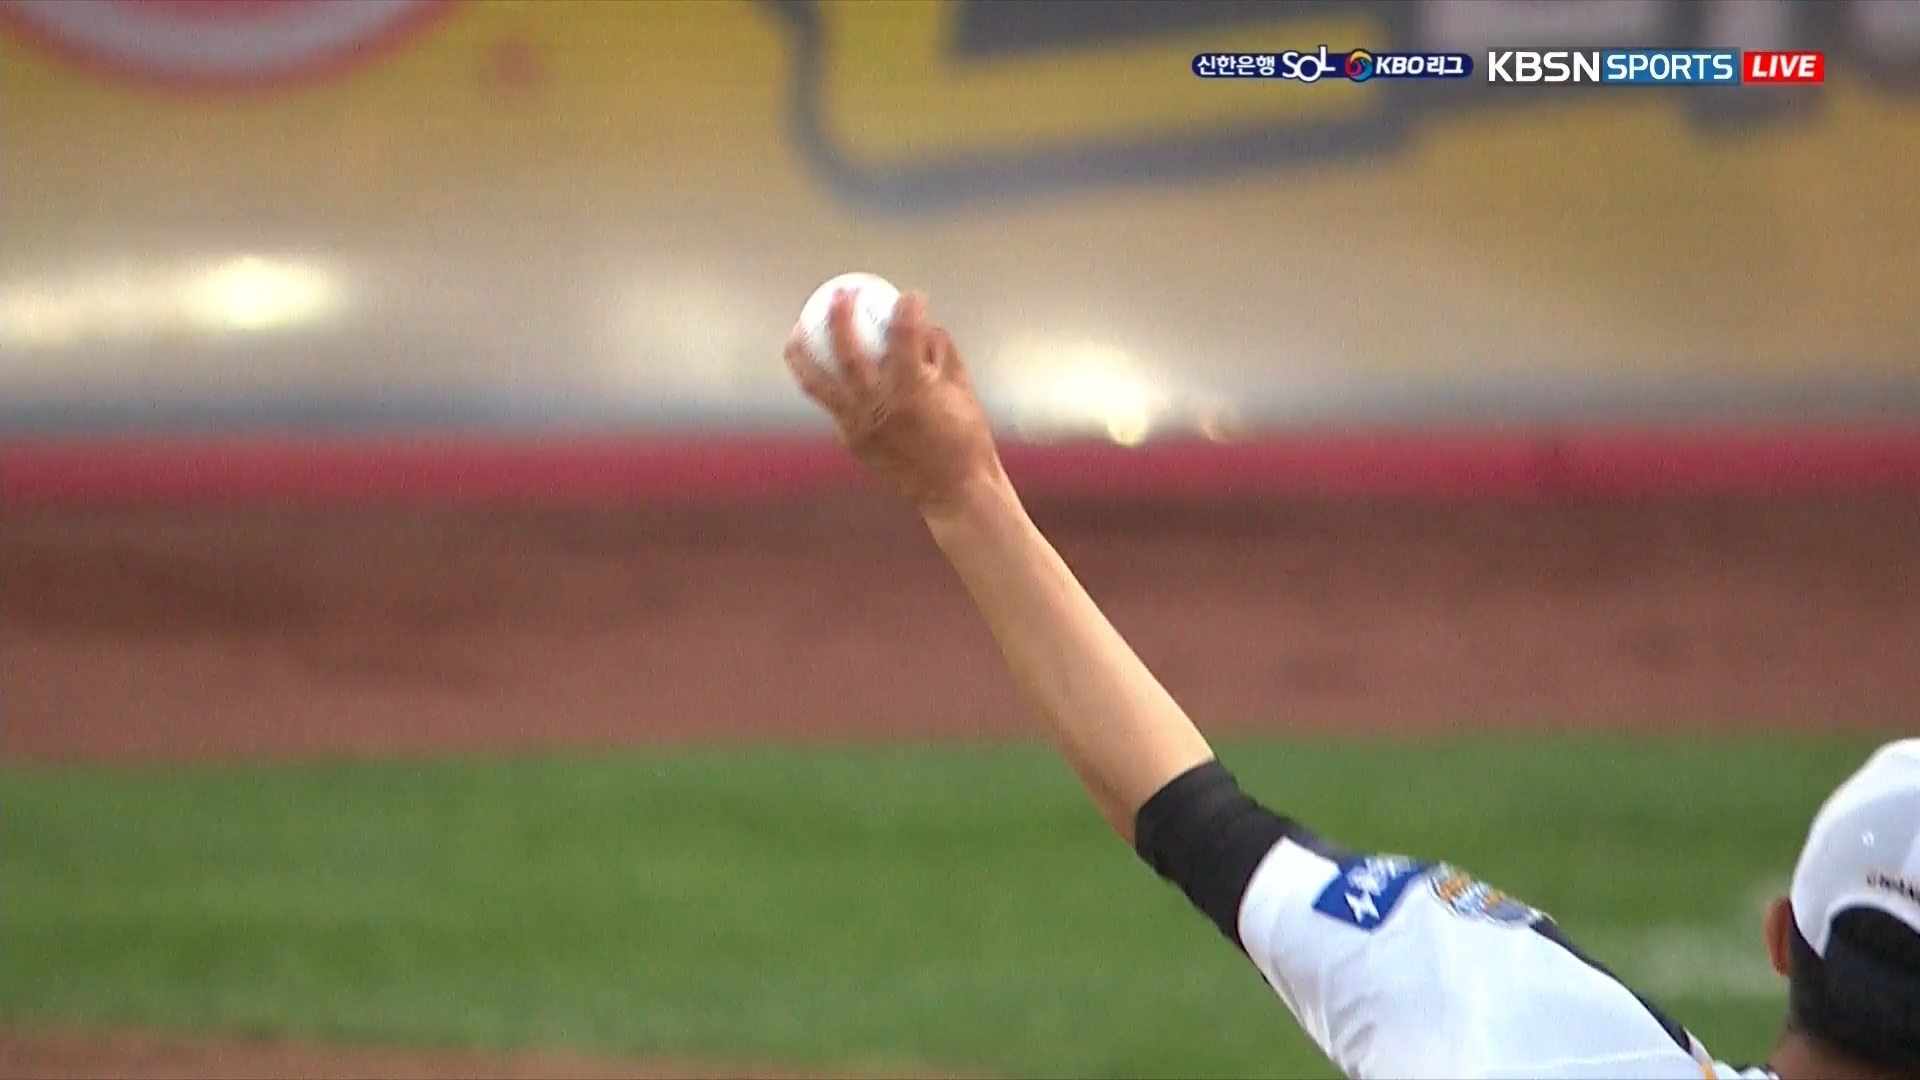zoomin_hand: (774, 249, 1222, 864)
